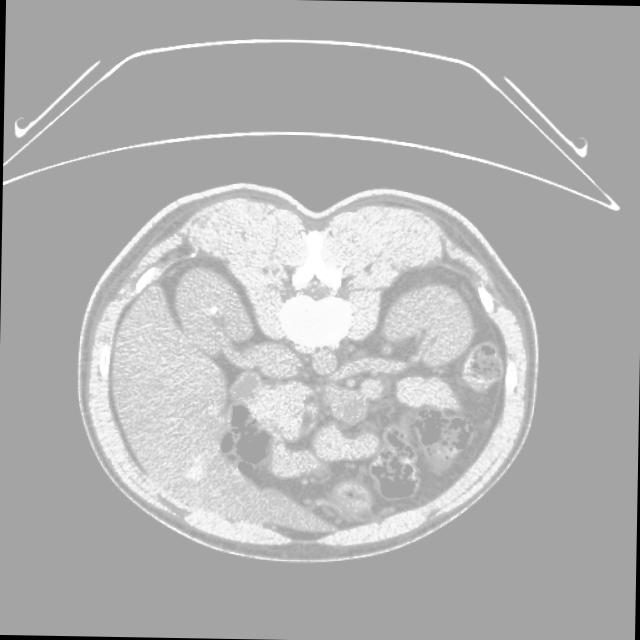STONE: (216, 329, 492, 525)
